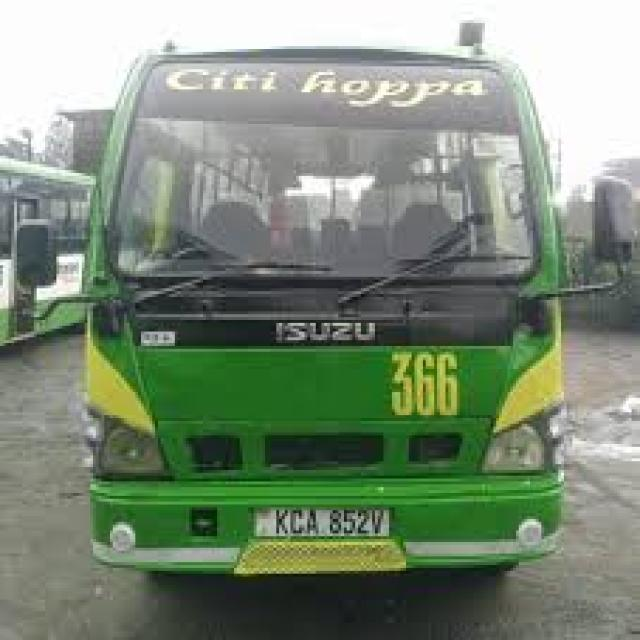bus: (10, 5, 610, 612)
